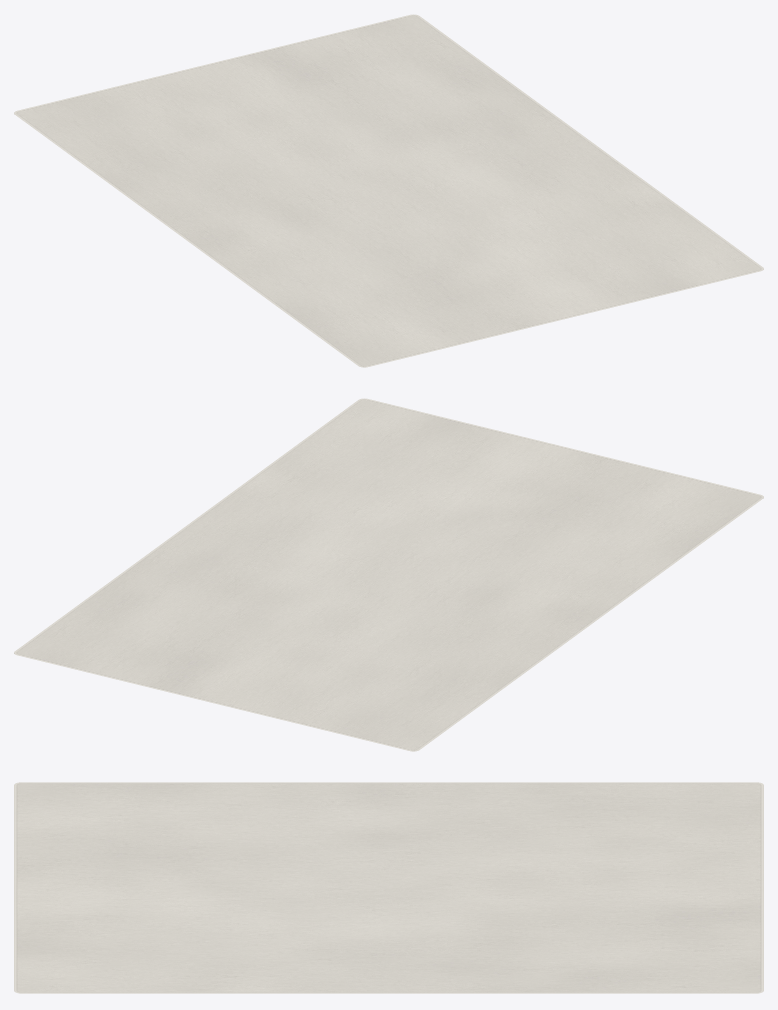
Rendered from ivory_XL.glb.
3 renders of one model, top to bottom at view 1: azimuth 30°, elevation 25°; view 2: azimuth 150°, elevation 25°; view 3: azimuth 270°, elevation 25°, orthographic. The views are drawn at different scales.
Parts seen in each view (by area): view 1: reliv_ivory_XL; view 2: reliv_ivory_XL; view 3: reliv_ivory_XL.
Part boxes in pixels (left/top/right/bottom): reliv_ivory_XL: left=14, top=14, right=763, bottom=367; reliv_ivory_XL: left=14, top=398, right=763, bottom=751; reliv_ivory_XL: left=14, top=782, right=763, bottom=993.
Bounding box in the file's own units: 2 × 0.009 × 3.
Materials: 2 (1 with a texture image).
